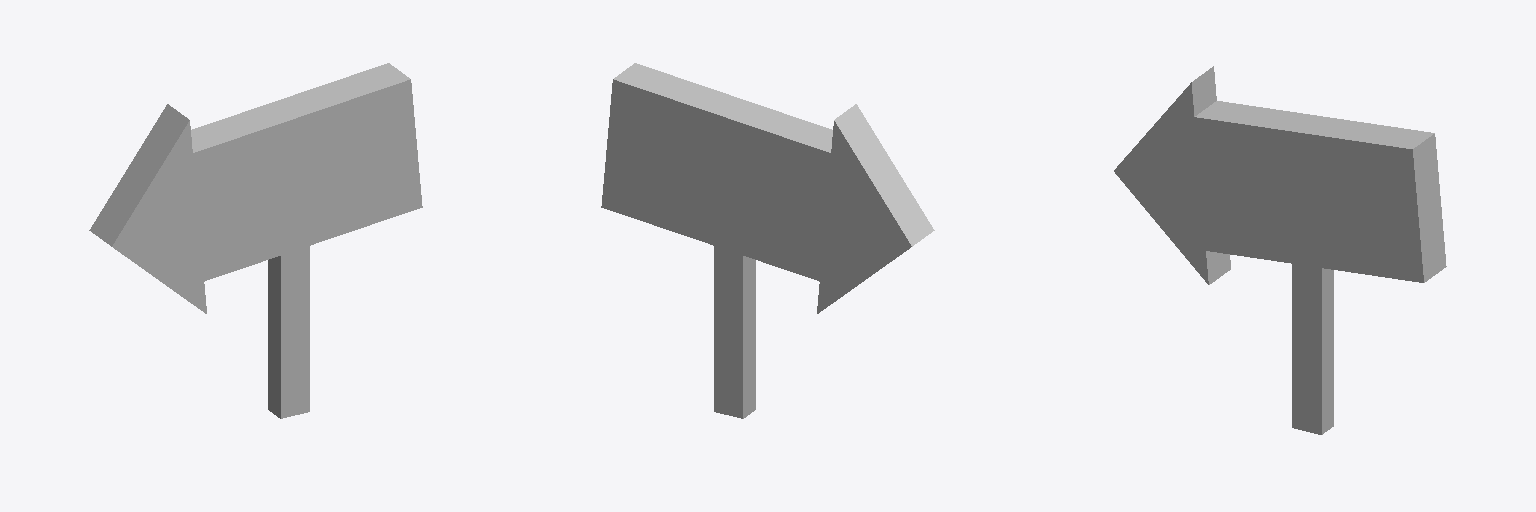
The model's file is arrowsign.obj.
The picture shows the model from 3 angles: view 1: azimuth 30°, elevation 25°; view 2: azimuth 150°, elevation 25°; view 3: azimuth 330°, elevation 25°; orthographic projection.
Visible parts, largest first — view 1: arrowsign; view 2: arrowsign; view 3: arrowsign.
Boxes of the visible parts, x1,y1,x2,y2 form: arrowsign: [89, 63, 422, 418]; arrowsign: [601, 63, 934, 418]; arrowsign: [1114, 66, 1446, 434].
Bounding box in the file's own units: 2.74 × 2.75 × 0.3427.